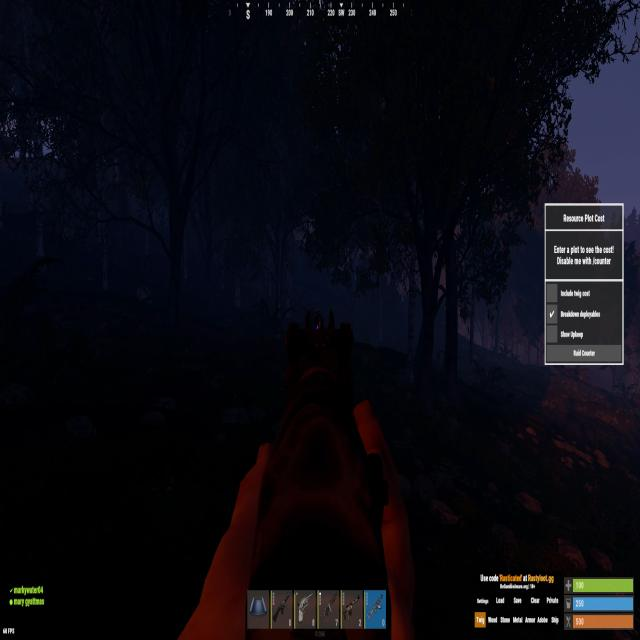Player: (314, 306, 325, 330)
